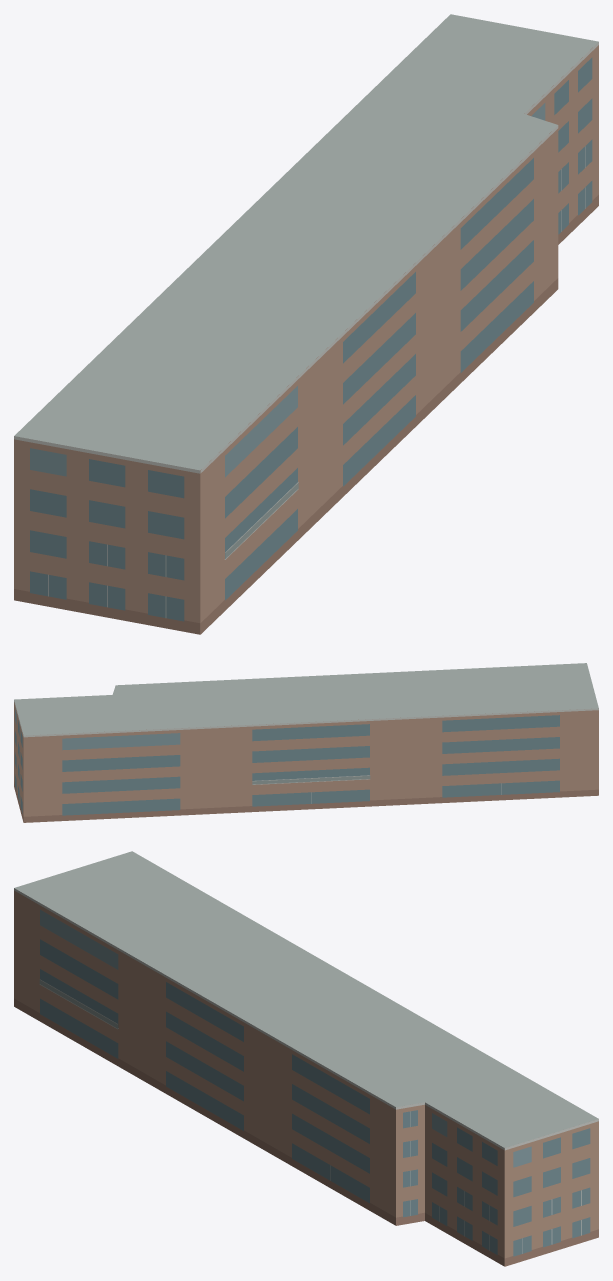
File: residential-21ee7d8c-8a96-415c-add8-00f44ae0b4f3.glb
3 renders of one model, top to bottom at view 1: azimuth 30°, elevation 25°; view 2: azimuth 150°, elevation 25°; view 3: azimuth 270°, elevation 25°, orthographic. The views are drawn at different scales.
Visible parts, largest first — view 1: residential-21ee7d8c-8a96-415c-add8-00f44ae0b4f3.tmp; view 2: residential-21ee7d8c-8a96-415c-add8-00f44ae0b4f3.tmp; view 3: residential-21ee7d8c-8a96-415c-add8-00f44ae0b4f3.tmp.
Part boxes in pixels (x1,y1,x2,y2): residential-21ee7d8c-8a96-415c-add8-00f44ae0b4f3.tmp: (14,14,598,634); residential-21ee7d8c-8a96-415c-add8-00f44ae0b4f3.tmp: (14,663,598,822); residential-21ee7d8c-8a96-415c-add8-00f44ae0b4f3.tmp: (14,851,598,1266).
Bounding box in the file's own units: 65.51 × 12.2 × 54.52.
